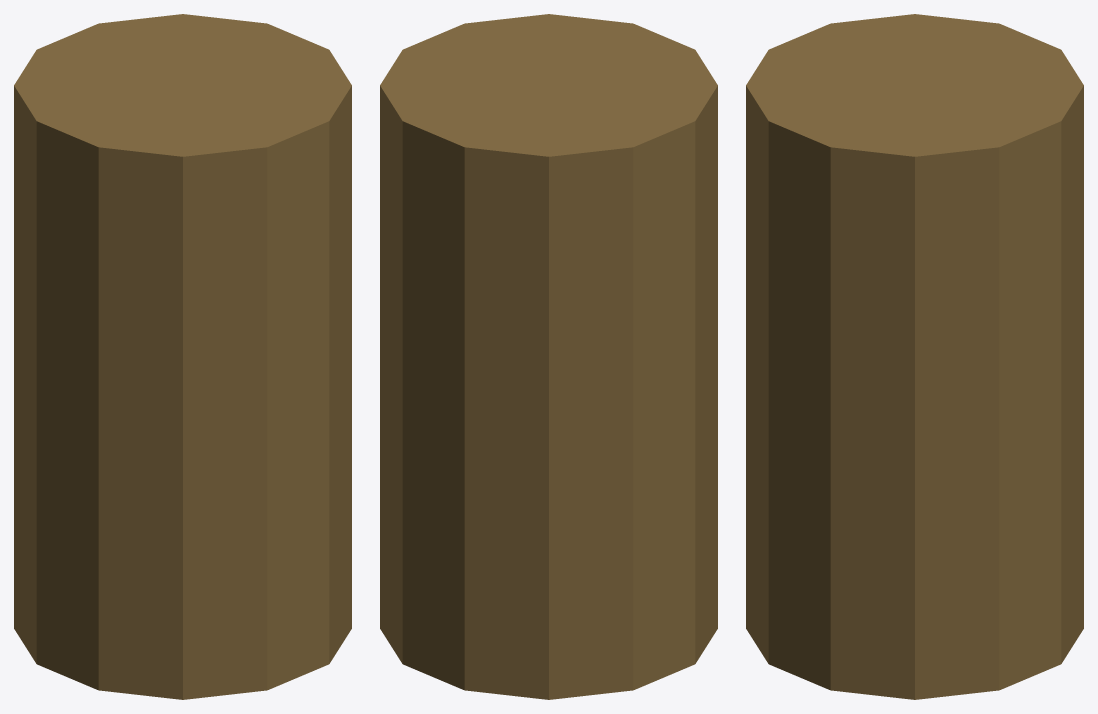
Rendered from Tronco2_FBX.fbx.
3 views of the same model, side by side, from view 1: azimuth 30°, elevation 25°; view 2: azimuth 150°, elevation 25°; view 3: azimuth 270°, elevation 25° (orthographic).
Parts seen in each view (by area): view 1: pCylinder1; view 2: pCylinder1; view 3: pCylinder1.
Part boxes in pixels (box(x1,y1,x2,y2)): pCylinder1: box(14, 14, 351, 699); pCylinder1: box(380, 14, 717, 699); pCylinder1: box(746, 14, 1083, 699).
Bounding box in the file's own units: 1.58 × 2.8 × 1.58.
